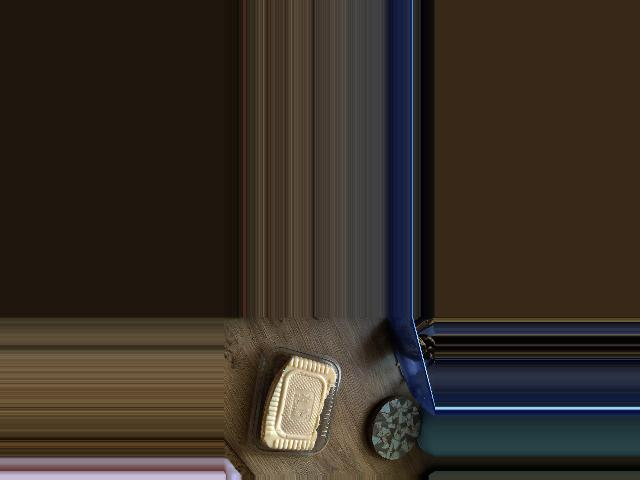cheese: (223, 356, 347, 470)
